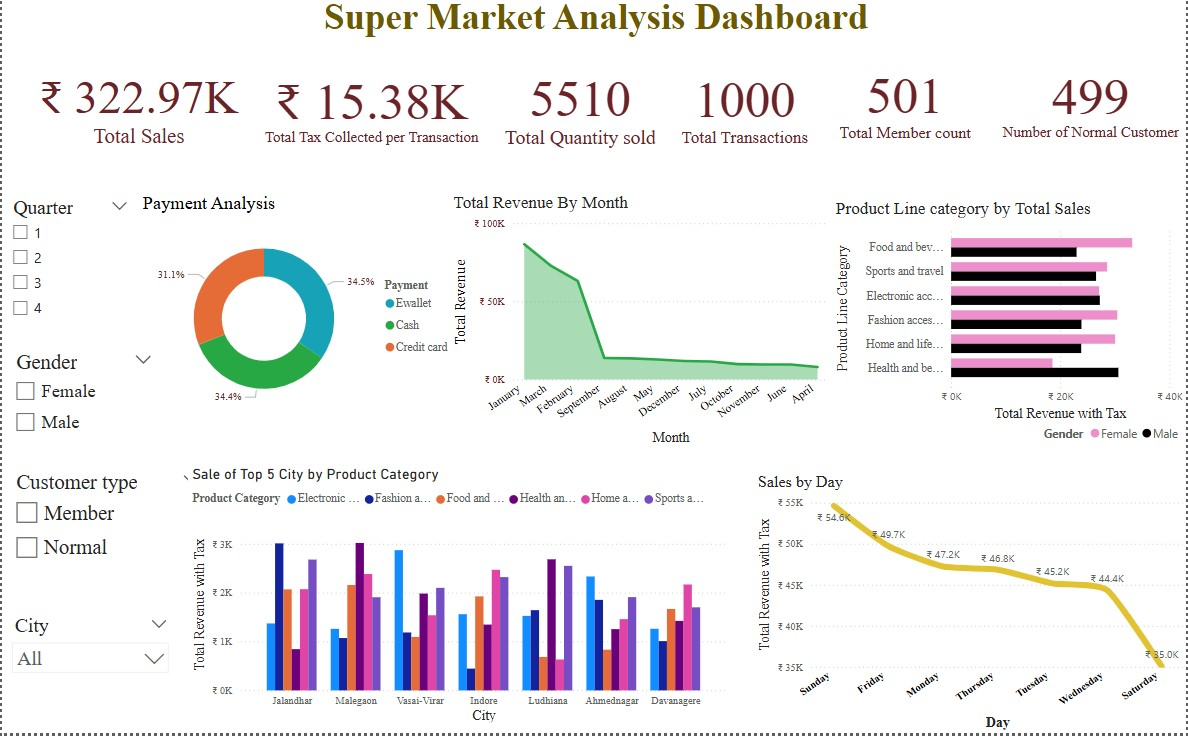

The page's visual inventory and layout, read from the dashboard file:
{"tool":"powerbi","page":{"name":"SuperMarket dashboard","canvas":[1373,860],"ordinal":0},"visuals":[{"type":"donutChart","title":"Payment Analysis","fields":{"Category":["supermarket_sales.Payment"],"Y":["CountNonNull(supermarket_sales.Product line id)"]},"box":[157.4,232.8,372.1,268.8],"z":0},{"type":"clusteredBarChart","title":"Product Line category by Total Sales","fields":{"Category":["supermarket_sales.Product Line Category"],"Y":["supermarket_sales.Total Revenue with Tax"],"Series":["supermarket_sales.Gender"]},"box":[962.2,239.3,411.4,291.8],"z":1000},{"type":"lineChart","title":"Total Revenue By Month","fields":{"Category":["supermarket_sales.Month"],"Y":["supermarket_sales.Total Revenue with Tax"]},"box":[518,232.8,444.2,298.3],"z":2000},{"type":"card","fields":{"Values":["supermarket_sales.Total Revenue with Tax"]},"box":[29.5,57.4,257.3,147.5],"z":3000},{"type":"card","fields":{"Values":["supermarket_sales.Total Quantity sold"]},"box":[563.9,57.4,213.1,147.5],"z":4000},{"type":"card","fields":{"Values":["supermarket_sales.Total Transactions"]},"box":[760.6,57.4,201.6,147.5],"z":5000},{"type":"card","fields":{"Values":["supermarket_sales.Total Tax Collected per Transaction"]},"box":[291.8,57.4,272.1,147.5],"z":6000},{"type":"card","fields":{"Values":["supermarket_sales.Total Member count"]},"box":[944.2,57.4,204.9,136.1],"z":7000},{"type":"card","fields":{"Values":["supermarket_sales.Number of Normal Customer"]},"box":[1149.1,57.4,224.6,136.1],"z":8000},{"type":"slicer","fields":{"Values":["supermarket_sales.Gender"]},"box":[3.3,409.8,181.9,121.3],"z":9000},{"type":"slicer","fields":{"Values":["supermarket_sales.City"]},"box":[1.6,718,201.6,104.9],"z":10000},{"type":"slicer","fields":{"Values":["supermarket_sales.Customer type"]},"box":[3.3,549.1,237.7,132.8],"z":11000},{"type":"slicer","fields":{"Values":["supermarket_sales.Quarter"]},"box":[0,232.8,157.4,159],"z":12000},{"type":"clusteredColumnChart","title":"Sale of Top 5 City by Product Category","fields":{"Category":["supermarket_sales.City"],"Y":["supermarket_sales.Total Revenue with Tax"],"Series":["supermarket_sales.Product Line Category"]},"box":[214.7,549.1,629.4,303.2],"z":13000},{"type":"lineChart","title":"Sales by Day","fields":{"Category":["supermarket_sales.Day"],"Y":["supermarket_sales.Total Revenue with Tax"]},"box":[870.4,557.3,503.2,303.2],"z":14000},{"type":"textbox","box":[3.3,0,1370.3,80.3],"z":15000}]}

Visuals, with their boxes in screenshot pixels (x1, y1, x2, y2), scaled from the page's 1373x860 canvas onto the 1188x739 screenshot:
"Payment Analysis" donutChart: 136 200 458 431
"Product Line category by Total Sales" clusteredBarChart: 833 206 1187 456
"Total Revenue By Month" lineChart: 448 200 833 456
card - supermarket_sales.Total Revenue with Tax: 26 49 248 176
card - supermarket_sales.Total Quantity sold: 488 49 672 176
card - supermarket_sales.Total Transactions: 658 49 833 176
card - supermarket_sales.Total Tax Collected per Transaction: 252 49 488 176
card - supermarket_sales.Total Member count: 817 49 994 166
card - supermarket_sales.Number of Normal Customer: 994 49 1187 166
slicer - supermarket_sales.Gender: 3 352 160 456
slicer - supermarket_sales.City: 1 617 176 707
slicer - supermarket_sales.Customer type: 3 472 209 586
slicer - supermarket_sales.Quarter: 0 200 136 337
"Sale of Top 5 City by Product Category" clusteredColumnChart: 186 472 730 732
"Sales by Day" lineChart: 753 479 1187 738
textbox: 3 0 1187 69
